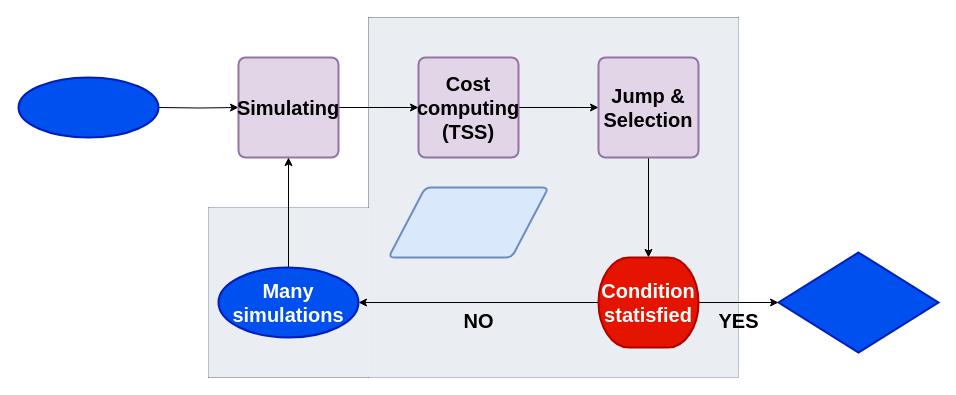
This 956x395 diagram has some shape labels left out. Each missing label, with the centre of its shape:
Parameter sampling spaces: the point at 468,222
Report paramters: the point at 858,302
Single simulation: the point at 88,107
